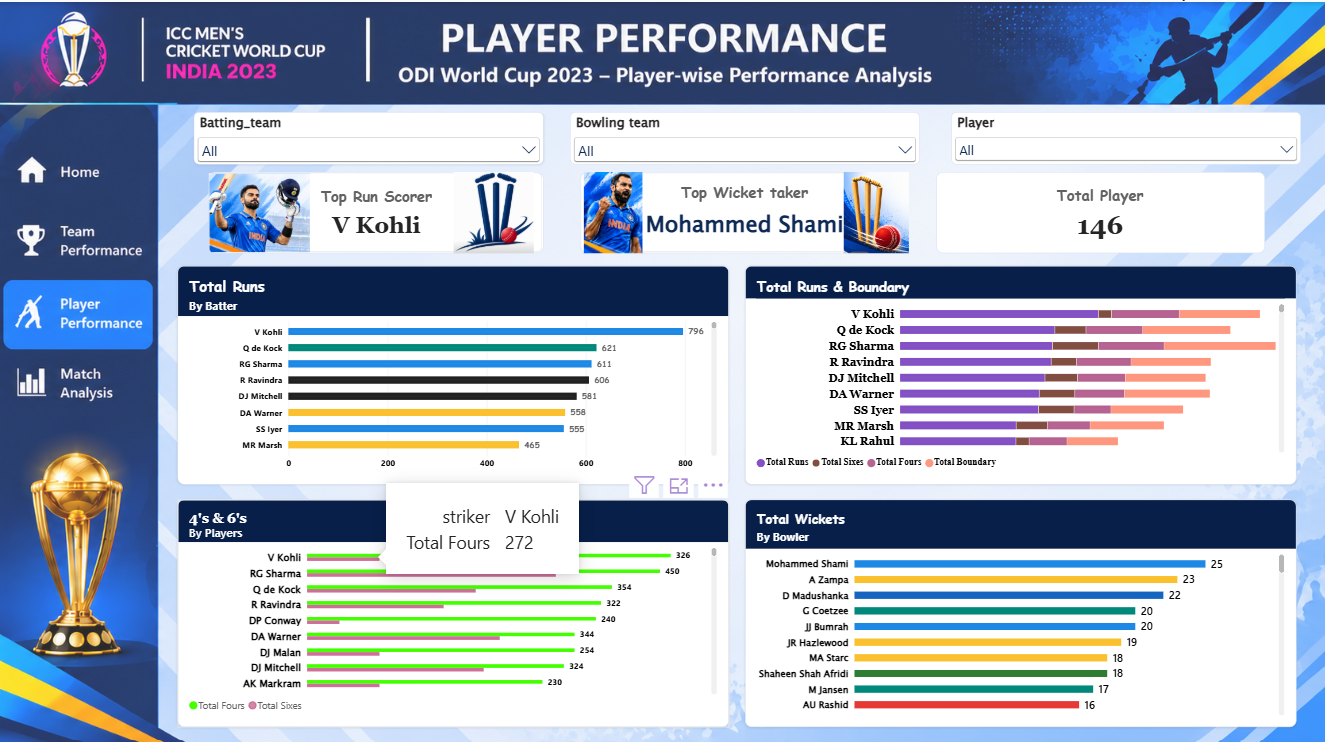

The page's visual inventory and layout, read from the dashboard file:
{"tool":"powerbi","page":{"name":"PLAYER PERFORMANCE ","canvas":[1920,1080],"ordinal":2},"visuals":[{"type":"slicer","fields":{"Values":["ODI 2023.batting_team"]},"box":[280.5,159.3,506.7,76],"z":0},{"type":"slicer","fields":{"Values":["ODI 2023.striker"]},"box":[1377.2,159.3,506.7,76],"z":1000},{"type":"cardVisual","fields":{"Data":["ODI 2023.Top Run Scorer"]},"box":[302.2,246.1,485,117.6],"z":2000},{"type":"cardVisual","fields":{"Data":["ODI 2023.Top Wicket taker"]},"box":[839.7,246.1,475.9,117.6],"z":3000},{"type":"cardVisual","fields":{"Data":["ODI 2023.Total Player"]},"box":[1355.4,246.1,475.9,117.6],"z":4000},{"type":"clusteredBarChart","title":"Total Runs ","fields":{"Category":["ODI 2023.striker"],"Y":["ODI 2023.Total Runs"]},"box":[257,381.8,798.1,316.7],"z":5000},{"type":"clusteredBarChart","title":"Total Wickets ","fields":{"Category":["ODI 2023.bowler"],"Y":["ODI 2023.Total Wickets Team"]},"box":[1078.6,720.2,798.1,329.4],"z":6000},{"type":"clusteredBarChart","title":"4''s & 6''s","fields":{"Category":["ODI 2023.striker"],"Y":["ODI 2023.Total Fours","ODI 2023.Total Sixes"]},"box":[257,720.2,798.1,329.4],"z":7000},{"type":"barChart","title":"Total Runs & Boundary","fields":{"Category":["ODI 2023.striker"],"Y":["ODI 2023.Total Runs","ODI 2023.Total Sixes","ODI 2023.Total Fours","ODI 2023.Total Boundary"]},"box":[1078.6,381.8,798.1,316.7],"z":8000},{"type":"slicer","fields":{"Values":["ODI 2023.bowling_team"]},"box":[825.2,159.3,506.7,76],"z":9000},{"type":"shape","box":[12.7,209.9,191.8,72.4],"z":10000},{"type":"shape","box":[12.7,503.1,191.8,72.4],"z":11000},{"type":"shape","box":[12.7,305.8,204.5,83.2],"z":12000},{"type":"shape","box":[12.7,647.9,191.8,314.9],"z":13000},{"type":"image","box":[302.2,246.1,146.6,117.6],"z":18000},{"type":"image","box":[642.4,246.1,144.8,117.6],"z":19000},{"type":"image","box":[839.7,246.1,95.9,117.6],"z":20000},{"type":"image","box":[1221.5,246.1,94.1,117.6],"z":21000}]}

Visuals, with their boxes on the page's 1920x1080 design canvas (x1, y1, x2, y2). These are canvas units, not pixel positions in the 1325x742 screenshot, which may show the page scaled, cropped or inside an application window:
slicer - ODI 2023.batting_team: pyautogui.locateOnScreen(280, 159, 787, 235)
slicer - ODI 2023.striker: pyautogui.locateOnScreen(1377, 159, 1884, 235)
cardVisual - ODI 2023.Top Run Scorer: pyautogui.locateOnScreen(302, 246, 787, 364)
cardVisual - ODI 2023.Top Wicket taker: pyautogui.locateOnScreen(840, 246, 1316, 364)
cardVisual - ODI 2023.Total Player: pyautogui.locateOnScreen(1355, 246, 1831, 364)
"Total Runs " clusteredBarChart: pyautogui.locateOnScreen(257, 382, 1055, 698)
"Total Wickets " clusteredBarChart: pyautogui.locateOnScreen(1079, 720, 1877, 1050)
"4''s & 6''s" clusteredBarChart: pyautogui.locateOnScreen(257, 720, 1055, 1050)
"Total Runs & Boundary" barChart: pyautogui.locateOnScreen(1079, 382, 1877, 698)
slicer - ODI 2023.bowling_team: pyautogui.locateOnScreen(825, 159, 1332, 235)
shape: pyautogui.locateOnScreen(13, 210, 204, 282)
shape: pyautogui.locateOnScreen(13, 503, 204, 576)
shape: pyautogui.locateOnScreen(13, 306, 217, 389)
shape: pyautogui.locateOnScreen(13, 648, 204, 963)
image: pyautogui.locateOnScreen(302, 246, 449, 364)
image: pyautogui.locateOnScreen(642, 246, 787, 364)
image: pyautogui.locateOnScreen(840, 246, 936, 364)
image: pyautogui.locateOnScreen(1222, 246, 1316, 364)
